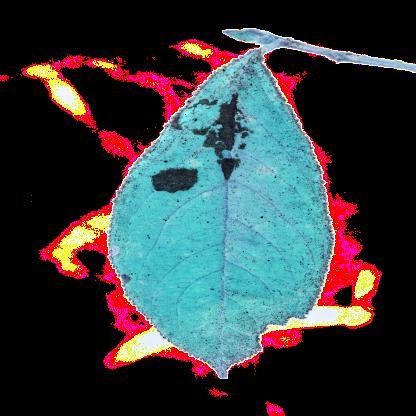Blueberry leaf: (96, 43, 347, 376)
